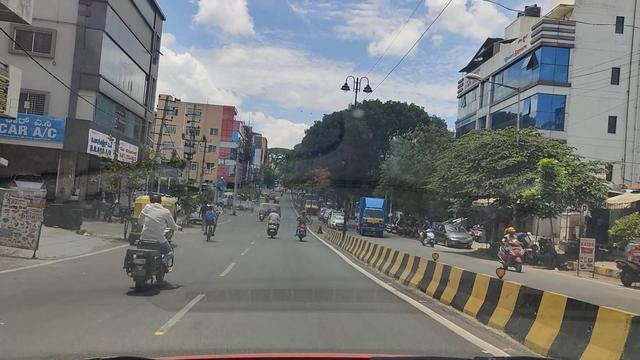LMV: (124, 177, 179, 287)
